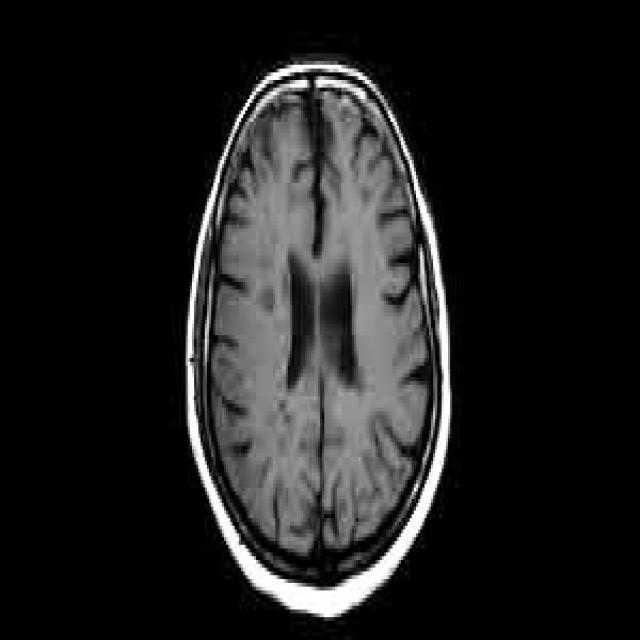notumor: (186, 65, 448, 613)
